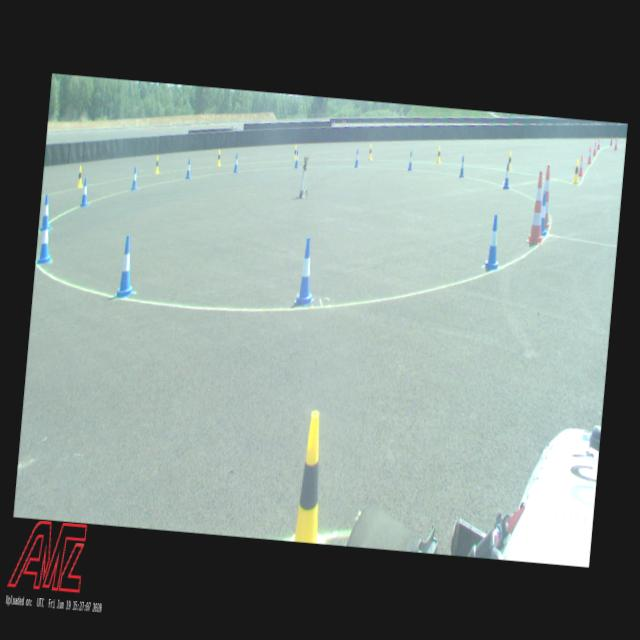blue_cone: (294, 236, 319, 305), (115, 235, 139, 298), (484, 214, 502, 270), (36, 215, 54, 262), (38, 193, 52, 230), (538, 192, 550, 235), (80, 178, 90, 206), (503, 163, 511, 188), (458, 155, 466, 177), (131, 167, 138, 190), (185, 158, 192, 178), (233, 152, 239, 172), (354, 148, 360, 166), (294, 150, 300, 168), (408, 150, 413, 170)
large_orange_cone: (525, 170, 549, 244), (539, 164, 554, 230)
orange_cone: (576, 154, 584, 175), (587, 146, 592, 164), (592, 141, 596, 155), (614, 137, 618, 150), (597, 138, 600, 148)
unknown_cone: (610, 136, 612, 146)
yellow_cone: (294, 410, 328, 542), (572, 160, 580, 183), (76, 166, 84, 187), (506, 150, 512, 170), (216, 149, 222, 165), (154, 156, 160, 172), (368, 144, 373, 160), (436, 146, 441, 162), (293, 144, 297, 160)
